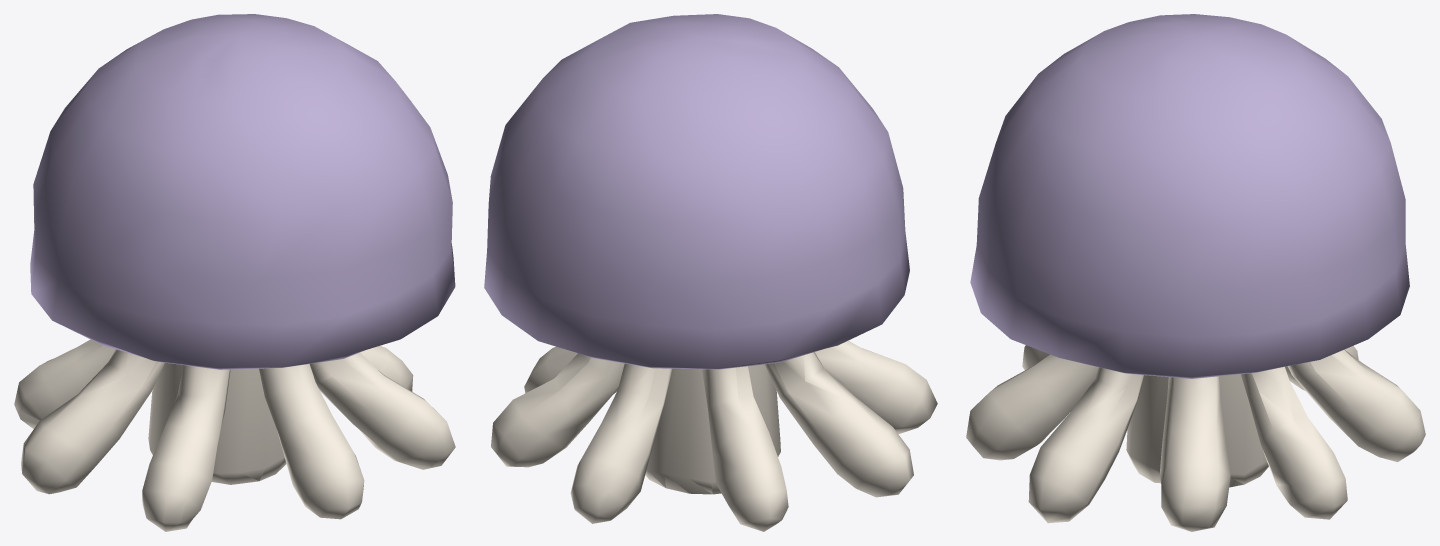
File: bedroom_jelly.glb
3 views of the same model, side by side, from view 1: azimuth 30°, elevation 25°; view 2: azimuth 150°, elevation 25°; view 3: azimuth 270°, elevation 25° (orthographic). The views are drawn at different scales.
Size of the model in its own units: 0.74 by 0.7392 by 0.7097.
